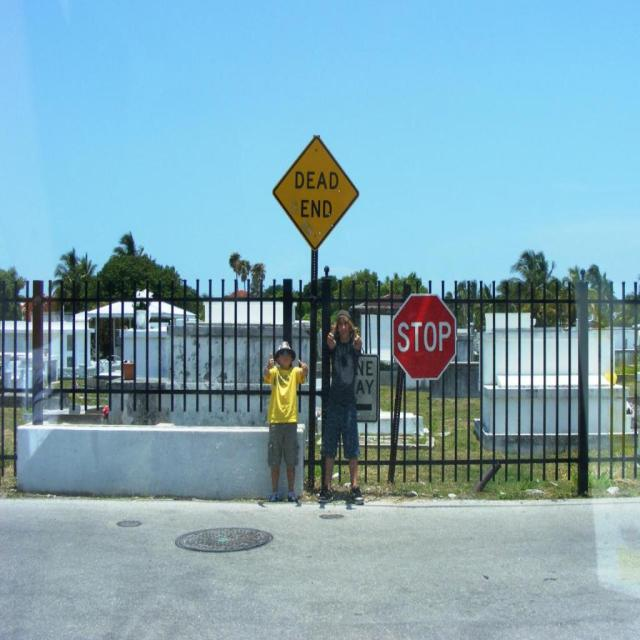Stop-sign: (392, 290, 457, 380)
